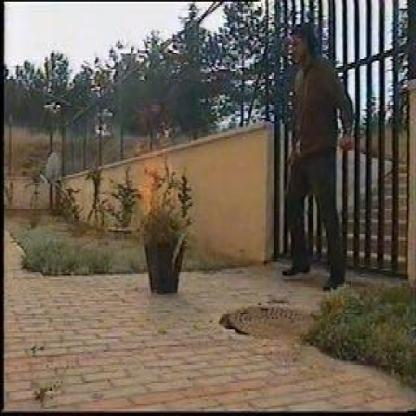-: (163, 126, 178, 144)
foggia-v2-map80-epoch100 - v1 4323: (138, 138, 160, 223)
